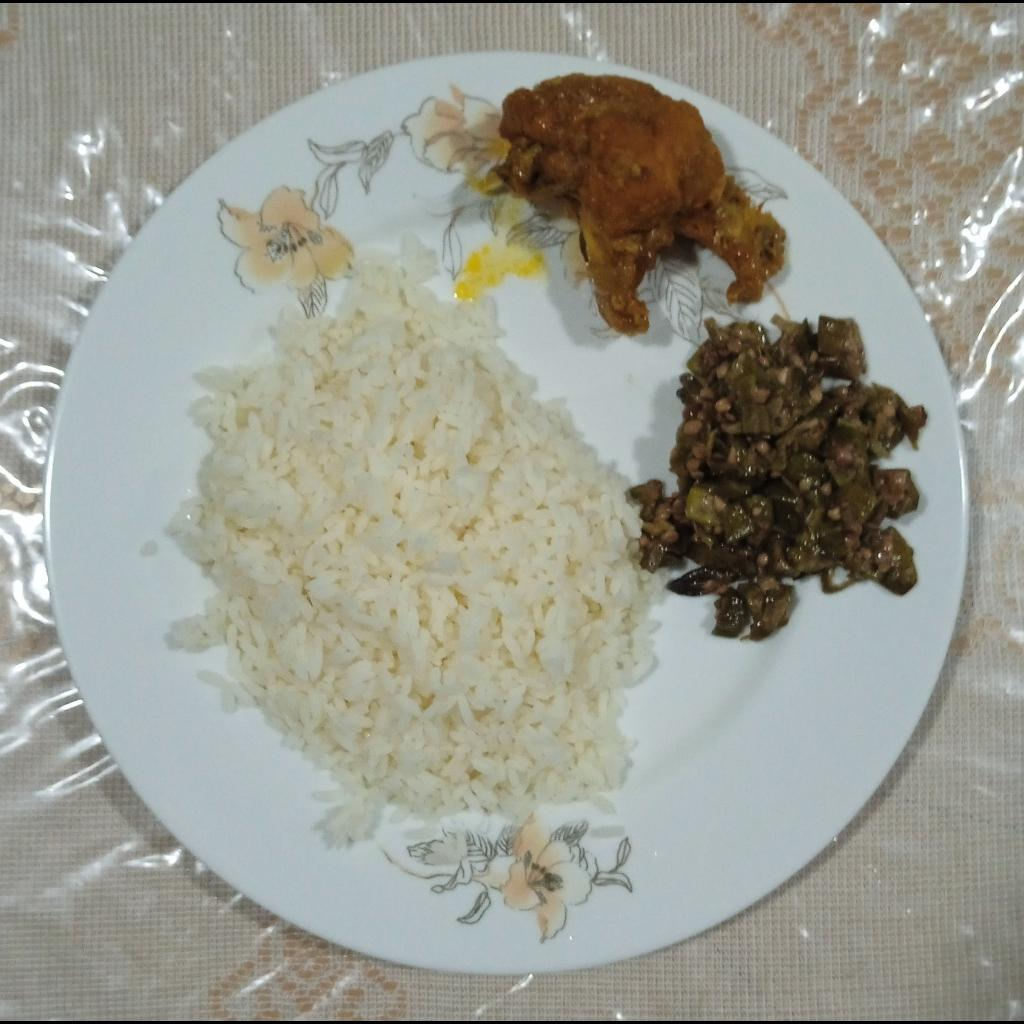chicken: (475, 75, 787, 338)
okra: (630, 311, 932, 643)
rice: (167, 233, 670, 850)
